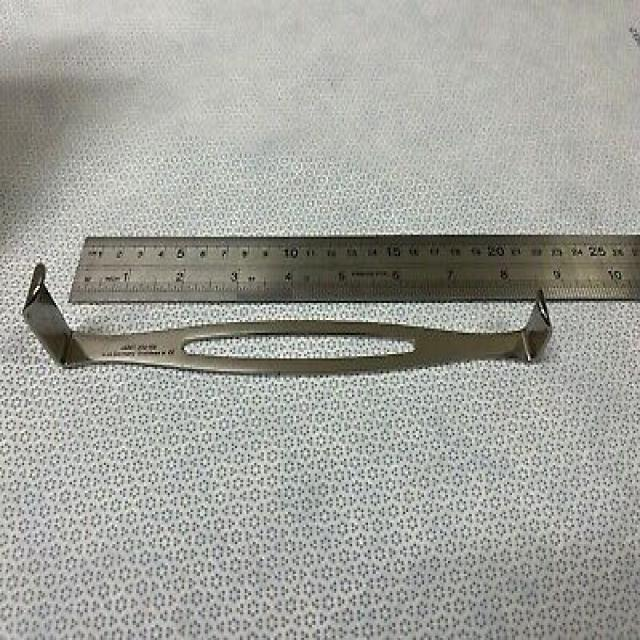Army Navy Retractor: (20, 257, 555, 388)
